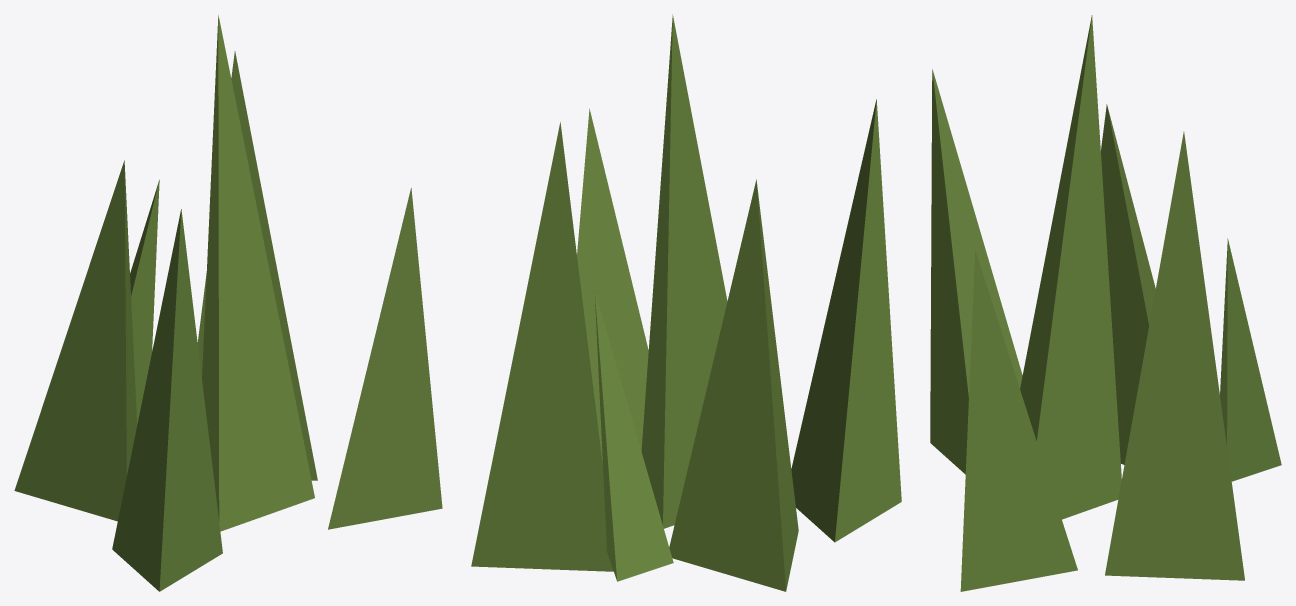
The model's file is grass_2.fbx.
The picture shows the model from 3 angles, left to right: view 1: azimuth 30°, elevation 25°; view 2: azimuth 150°, elevation 25°; view 3: azimuth 270°, elevation 25°; orthographic projection. The views are drawn at different scales.
Visible parts, largest first — view 1: Grass_02; view 2: Grass_02; view 3: Grass_02.
Boxes of the visible parts, x1,y1,x2,y2 form: Grass_02: [14, 15, 442, 591]; Grass_02: [471, 14, 901, 591]; Grass_02: [930, 15, 1281, 591].
Size of the model in its own units: 136 by 205 by 128.
1 material, 1 textured.
